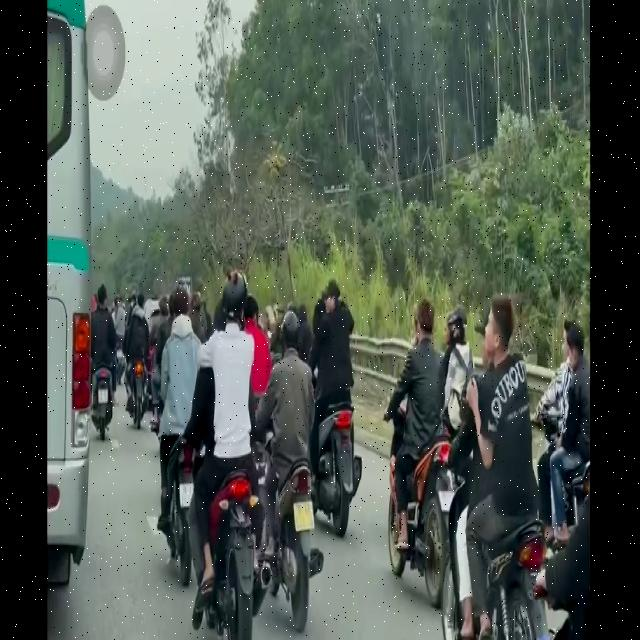helmet: (224, 267, 246, 342), (282, 308, 298, 361)
no_helmet: (486, 284, 510, 366), (568, 315, 583, 380), (418, 292, 433, 355)
